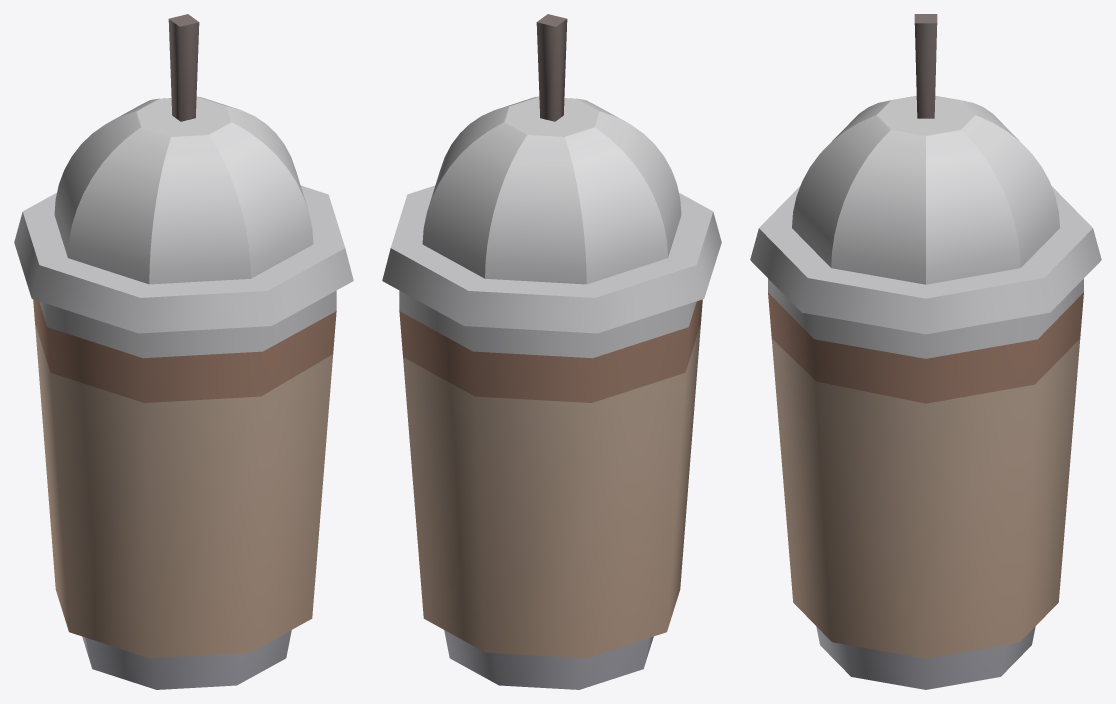
File: frappe.glb
3 renders of one model, left to right at view 1: azimuth 30°, elevation 25°; view 2: azimuth 150°, elevation 25°; view 3: azimuth 270°, elevation 25°, orthographic.
Visible parts, largest first — view 1: frappe; view 2: frappe; view 3: frappe.
Part boxes in pixels (bbox=[...]): frappe: bbox=[14, 14, 353, 689]; frappe: bbox=[382, 14, 721, 689]; frappe: bbox=[750, 14, 1101, 689].
Bounding box in the file's own units: 0.2541 × 0.4993 × 0.2541.
